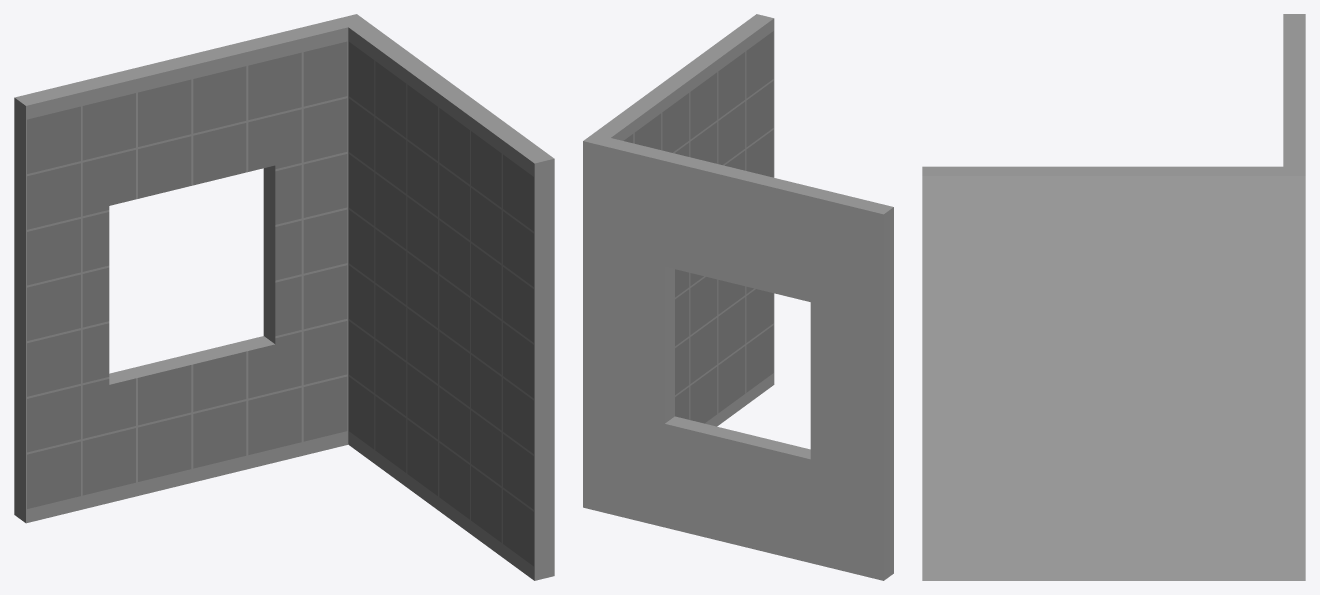
File: Wall1_C7_10.fbx
3 views of the same model, side by side, from view 1: azimuth 30°, elevation 25°; view 2: azimuth 150°, elevation 25°; view 3: azimuth 270°, elevation 25° (orthographic). The views are drawn at different scales.
Parts seen in each view (by area): view 1: Wall1_C7_10; view 2: Wall1_C7_10; view 3: Wall1_C7_10.
Part boxes in pixels (<box>): Wall1_C7_10: <box>14,14,554,580</box>; Wall1_C7_10: <box>583,14,893,580</box>; Wall1_C7_10: <box>922,14,1305,580</box>.
Bounding box in the file's own units: 258 × 300 × 258.
